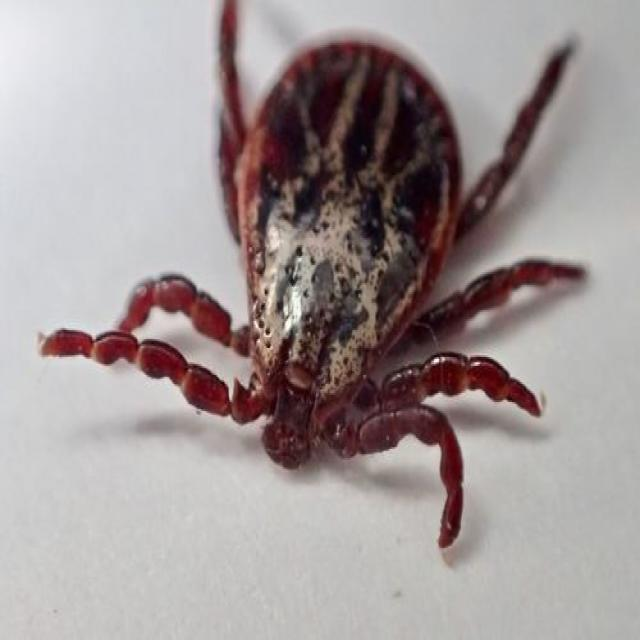Dermacentor Reticulatus-M: (38, 0, 586, 550)
